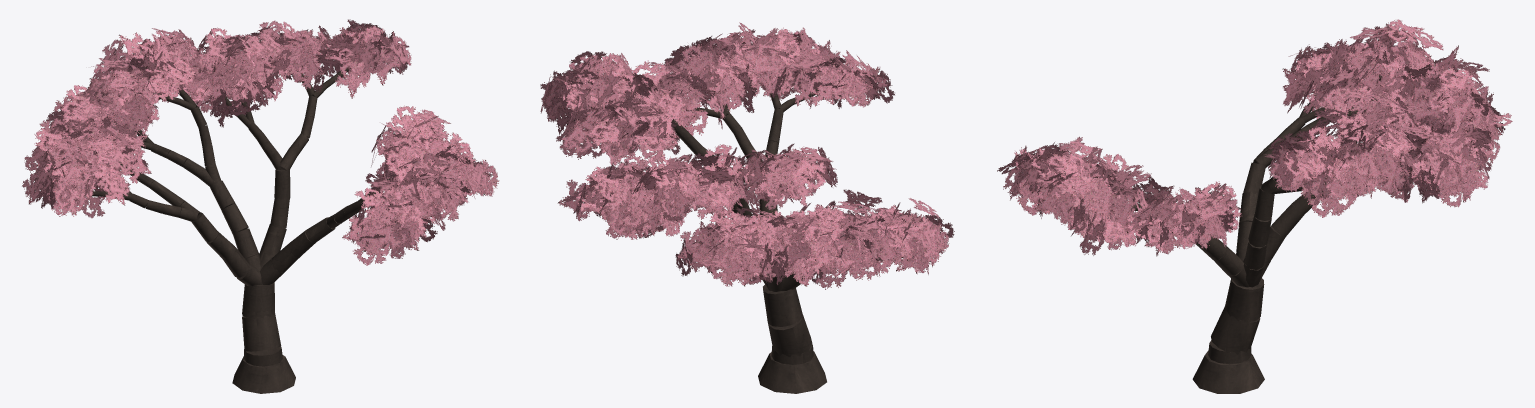
File: Sakura_1.fbx
3 views of the same model, side by side, from view 1: azimuth 30°, elevation 25°; view 2: azimuth 150°, elevation 25°; view 3: azimuth 270°, elevation 25° (orthographic). The views are drawn at different scales.
Visible parts, largest first — view 1: Sakura_1_LOD0; view 2: Sakura_1_LOD0; view 3: Sakura_1_LOD0.
Boxes of the visible parts, x1=… form: Sakura_1_LOD0: x1=22, y1=19, x2=499, y2=393; Sakura_1_LOD0: x1=540, y1=22, x2=954, y2=393; Sakura_1_LOD0: x1=997, y1=19, x2=1512, y2=393.
Size of what is drawn, in the model's own units: 10.11 by 7.4 by 10.89.
